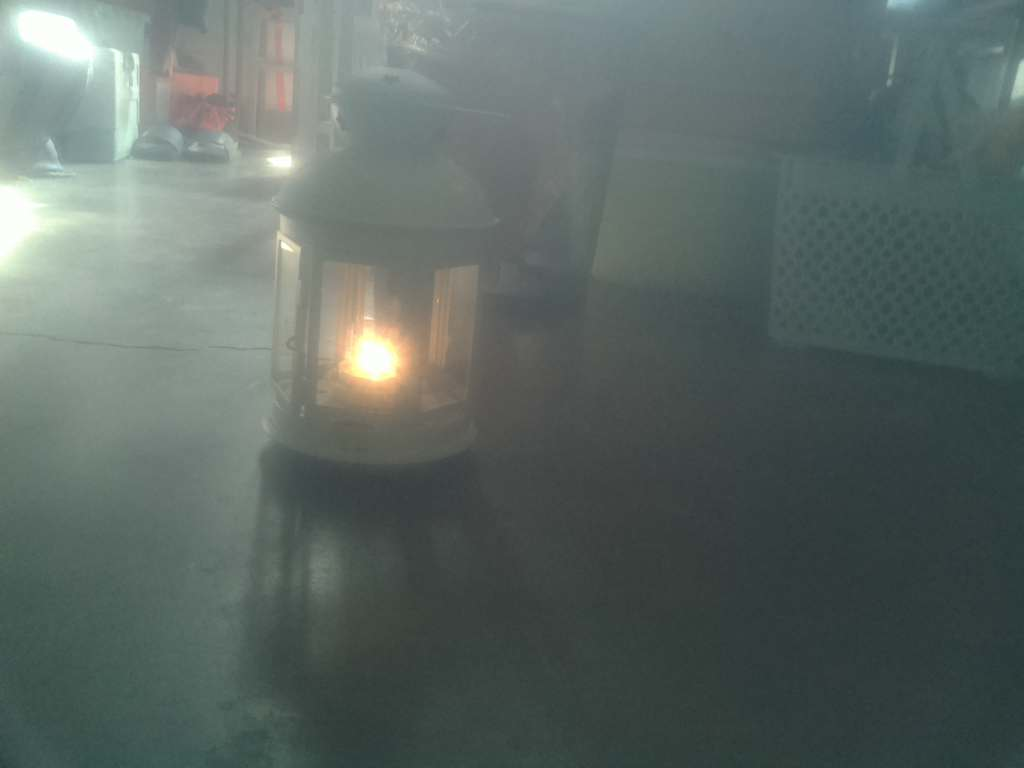fire: (321, 304, 418, 404)
